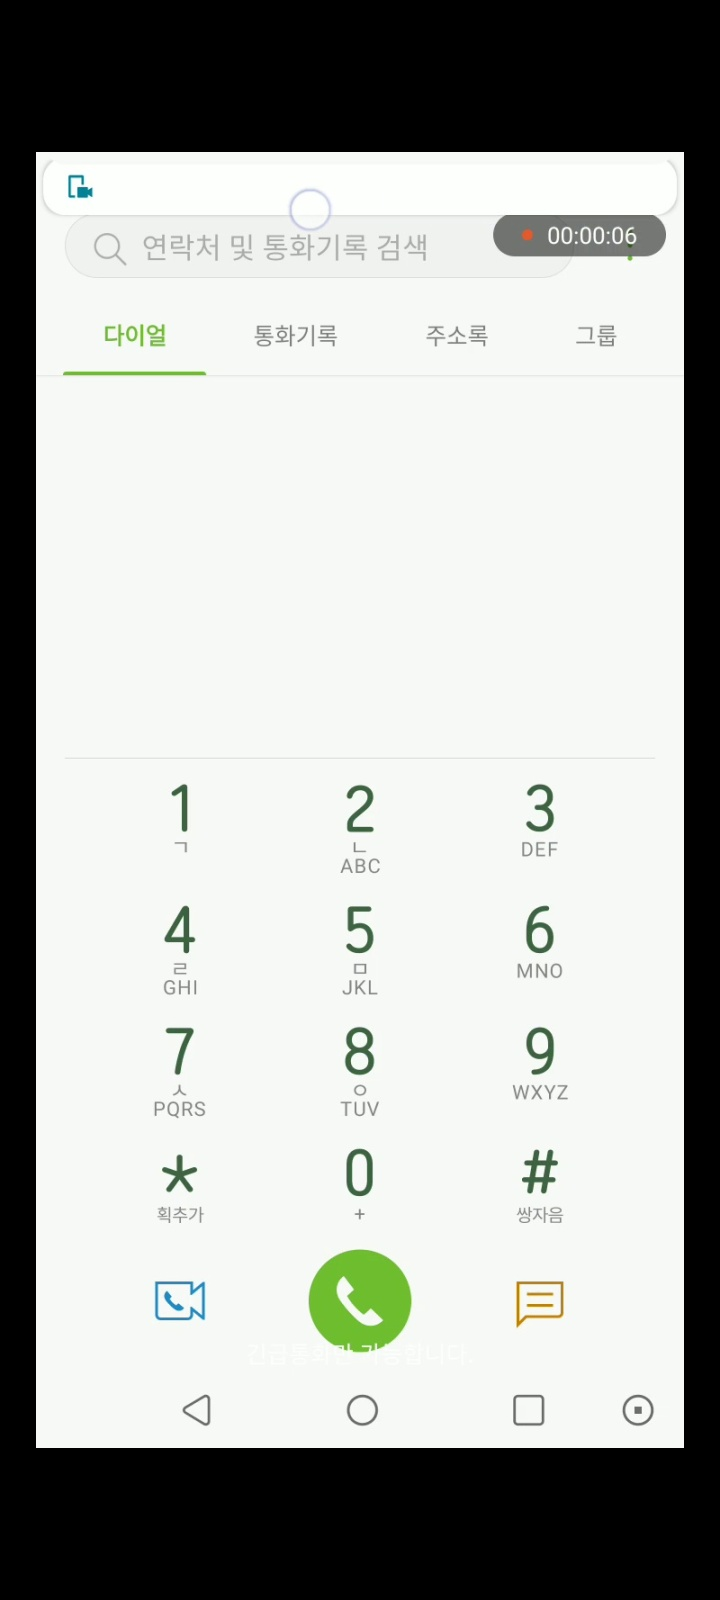Cursor: (288, 187, 333, 233)
